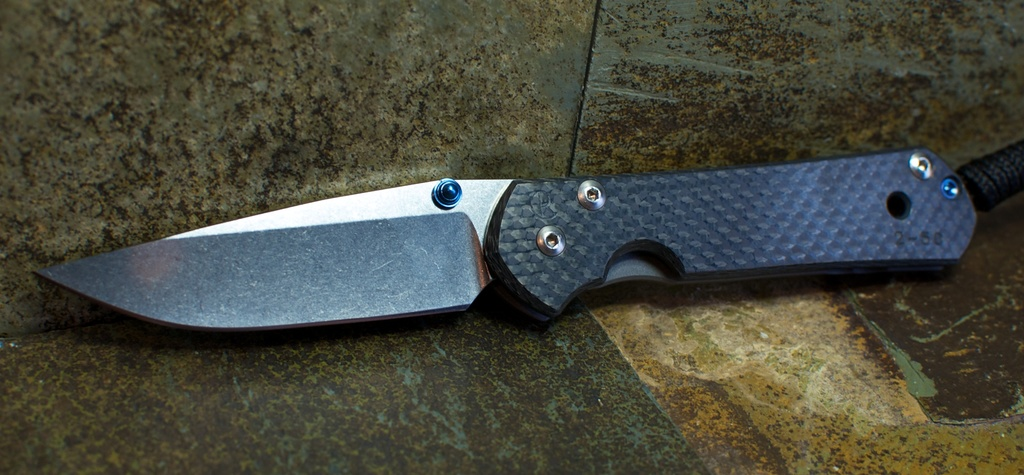knife: (32, 145, 976, 331)
